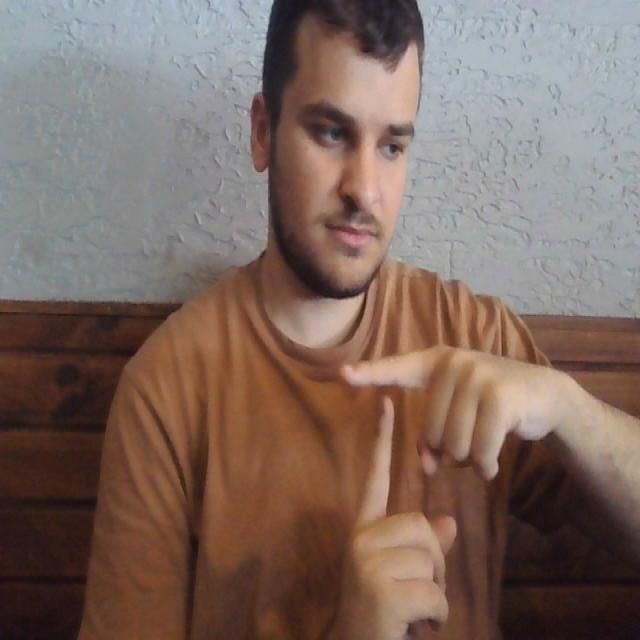Tesekkurler: (319, 335, 440, 537)
